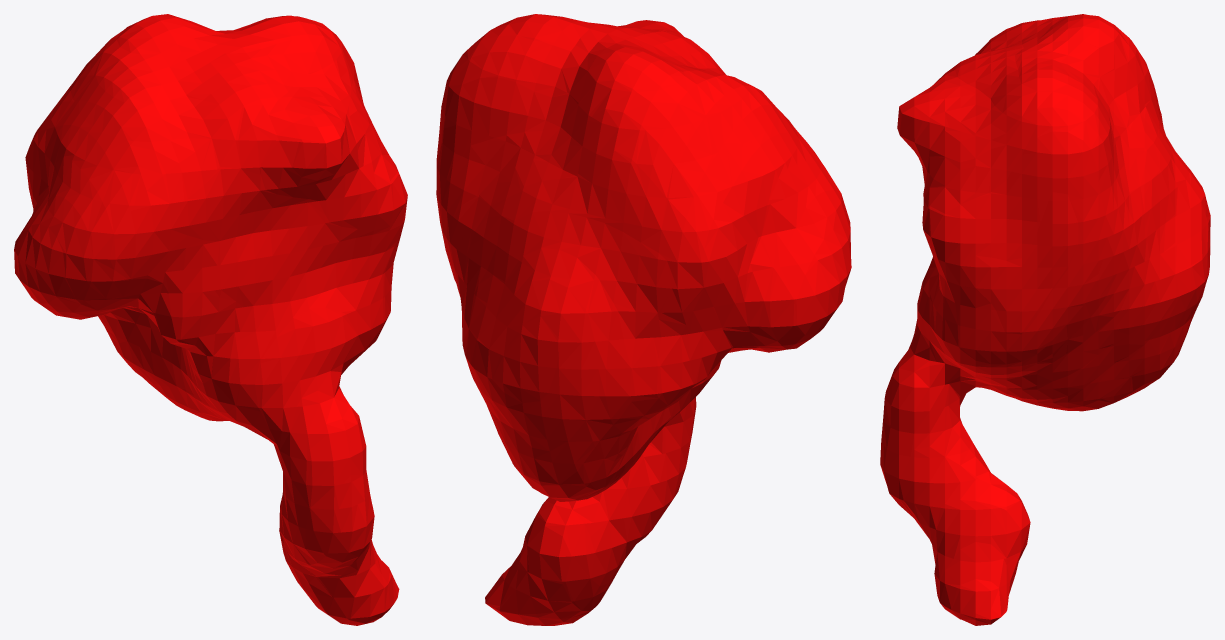
File: gpt_coarse.dae
3 renders of one model, left to right at view 1: azimuth 30°, elevation 25°; view 2: azimuth 150°, elevation 25°; view 3: azimuth 270°, elevation 25°, orthographic. The views are drawn at different scales.
Visible parts, largest first — view 1: gpt; view 2: gpt; view 3: gpt.
Part boxes in pixels (x1=…): gpt: x1=14, y1=14, x2=407, y2=625; gpt: x1=436, y1=14, x2=851, y2=625; gpt: x1=880, y1=14, x2=1210, y2=625.
Bounding box in the file's own units: 39.93 × 65.44 × 36.42.
